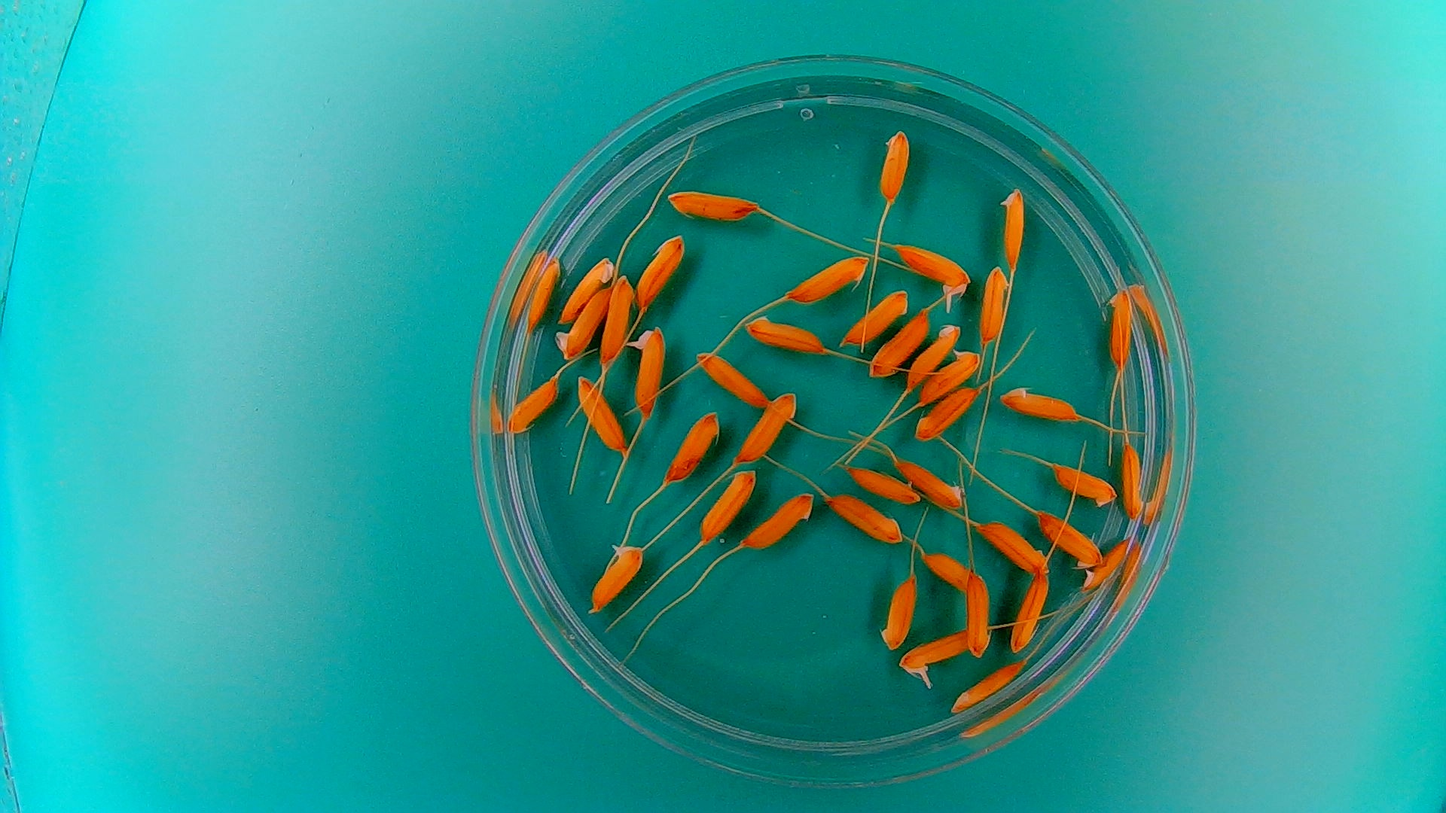no: (734, 391, 801, 465), (692, 347, 771, 409), (697, 467, 758, 544), (784, 252, 871, 305), (867, 307, 931, 379), (1034, 508, 1107, 571), (633, 231, 688, 312), (741, 490, 814, 551), (948, 659, 1025, 716), (824, 492, 905, 546), (574, 373, 627, 455), (664, 410, 721, 486), (975, 518, 1050, 575), (840, 287, 911, 346), (894, 455, 967, 510), (557, 254, 615, 323), (742, 312, 830, 356), (905, 320, 962, 387), (915, 385, 981, 442), (996, 382, 1085, 424), (666, 184, 761, 223), (505, 372, 561, 435), (1009, 571, 1051, 654), (599, 272, 635, 368), (1049, 460, 1117, 508), (845, 462, 920, 505), (877, 574, 917, 652), (1081, 536, 1132, 594), (525, 254, 563, 330), (874, 126, 911, 204), (977, 263, 1011, 343), (964, 571, 995, 658), (921, 551, 982, 592), (997, 185, 1027, 268), (1105, 287, 1134, 369), (1119, 440, 1146, 522)
yes: (891, 238, 972, 297), (554, 284, 614, 361), (588, 545, 647, 614), (917, 346, 982, 405), (897, 627, 970, 678), (629, 324, 666, 416)
